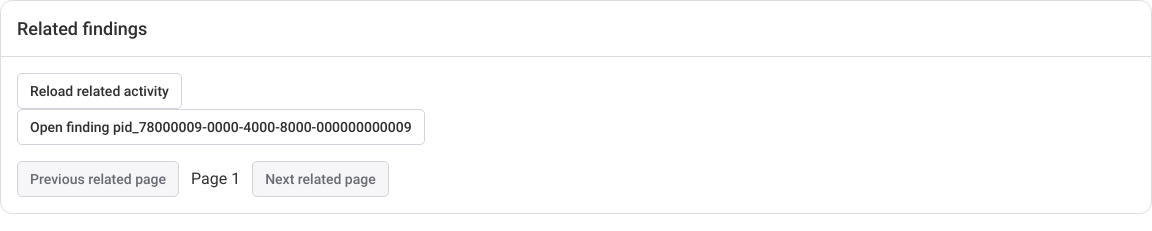
Security Agent activity panel › hides prior links after a 403 reload and never renders raw errors
Click the button "Reload related activity" at (99, 91), box [17, 73, 182, 109]
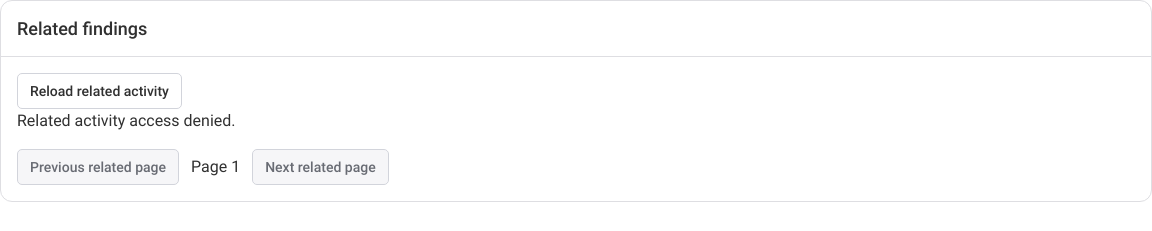
Result: the message shows "access denied" at [17, 111, 236, 130]
